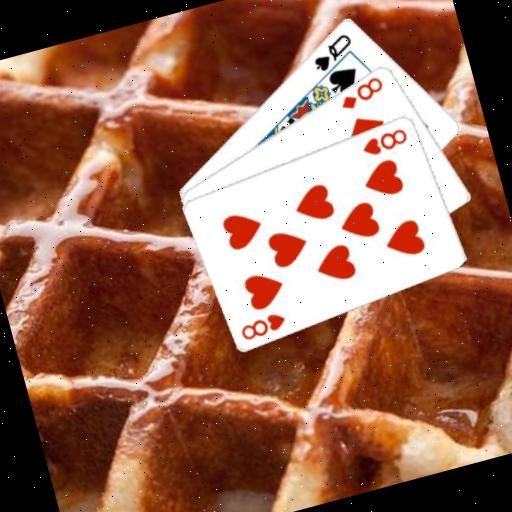8D: (332, 71, 389, 113)
8H: (356, 123, 411, 159), (235, 307, 289, 343)
QS: (305, 28, 359, 75)
